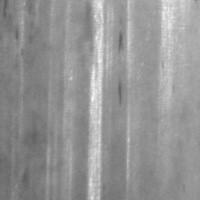inclusion: (114, 78, 129, 105), (115, 27, 128, 56)
scratches: (84, 0, 107, 199), (54, 26, 80, 165), (157, 0, 178, 103)
